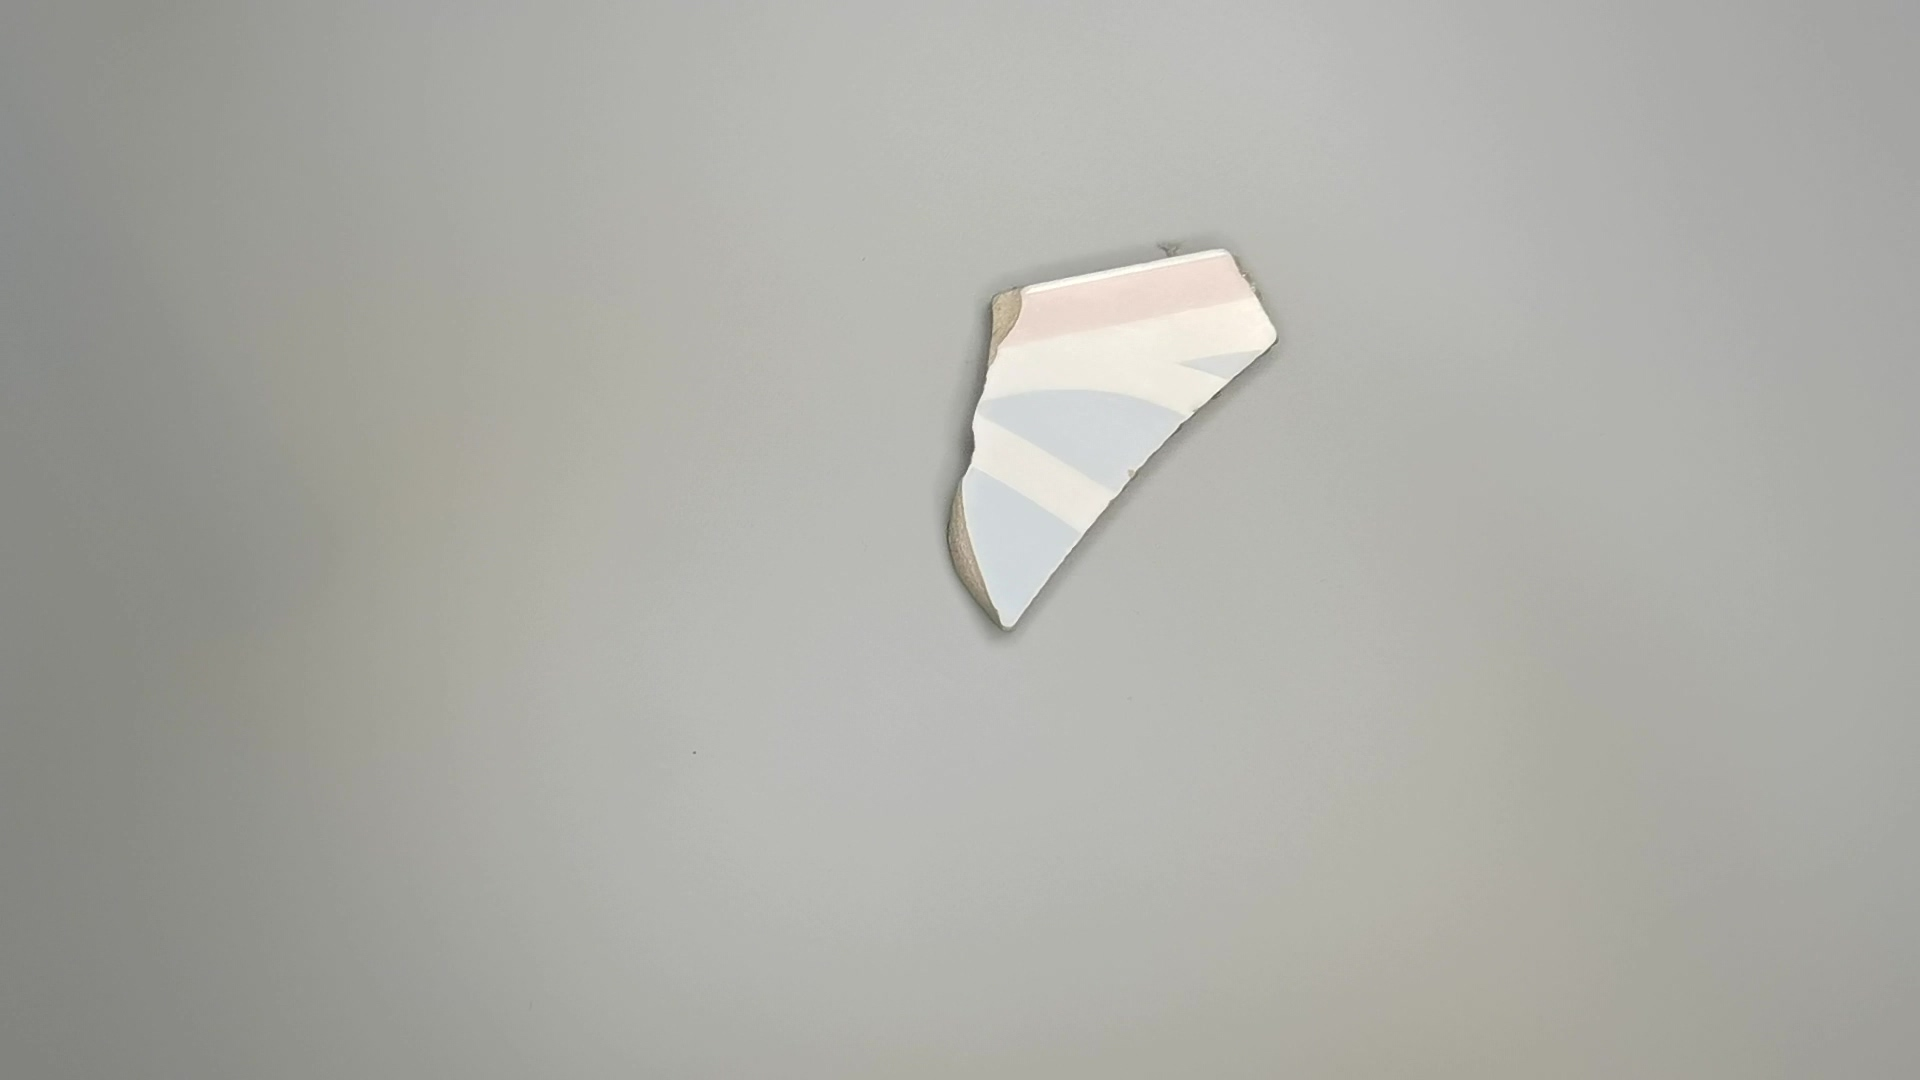ceramic: (945, 243, 1284, 640)
